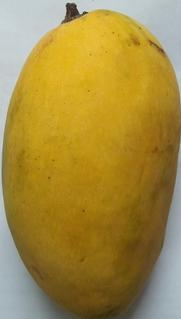Ripe: (0, 1, 181, 319)
